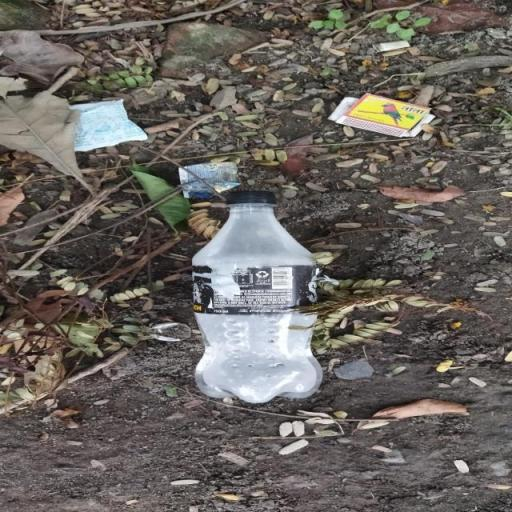plastic: (189, 190, 325, 404)
